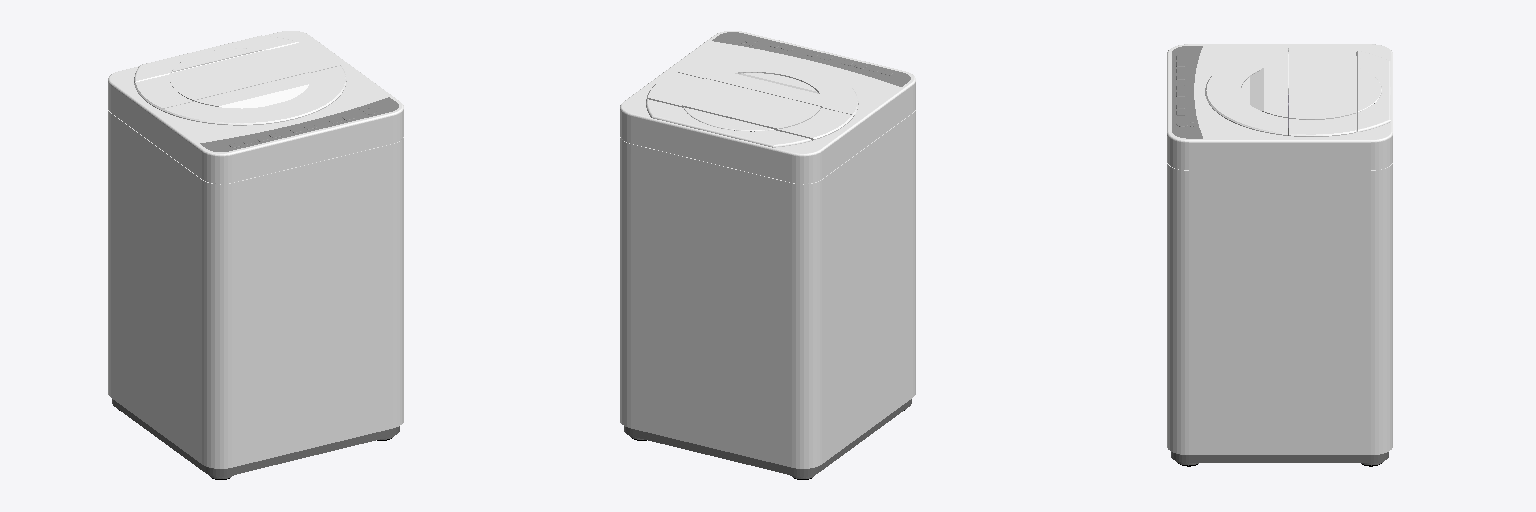
3 renders of one model, left to right at view 1: azimuth 30°, elevation 25°; view 2: azimuth 150°, elevation 25°; view 3: azimuth 270°, elevation 25°, orthographic.
Visible parts, largest first — view 1: Body_Body4; view 2: Body_Body4; view 3: Body_Body4.
Part boxes in pixels (left/top/right/bottom): Body_Body4: left=108, top=31, right=403, bottom=479; Body_Body4: left=620, top=31, right=915, bottom=479; Body_Body4: left=1167, top=44, right=1392, bottom=466.
Bounding box in the file's own units: 0.52 × 0.83 × 0.512.